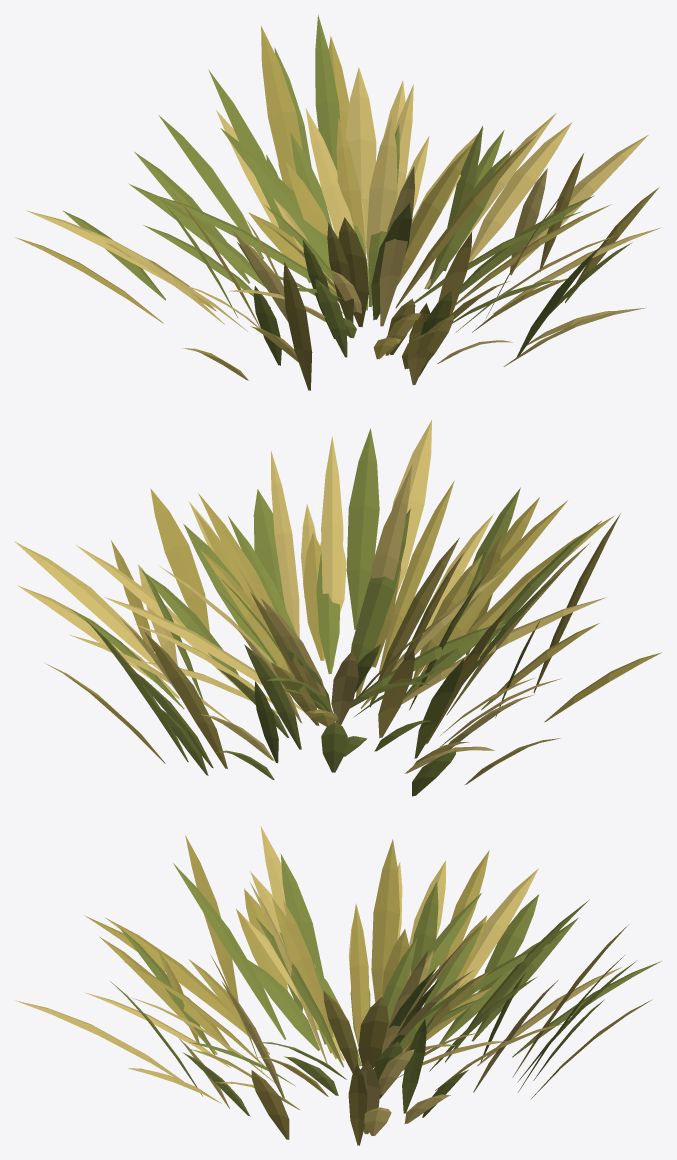
The model's file is grass_short.glb.
3 renders of one model, top to bottom at view 1: azimuth 30°, elevation 25°; view 2: azimuth 150°, elevation 25°; view 3: azimuth 270°, elevation 25°, orthographic. The views are drawn at different scales.
Visible parts, largest first — view 1: grass_short; view 2: grass_short; view 3: grass_short.
Boxes of the visible parts, x1,y1,x2,y2 form: grass_short: [15, 14, 660, 390]; grass_short: [14, 420, 661, 796]; grass_short: [15, 826, 661, 1145].
Bounding box in the file's own units: 0.9543 × 0.3068 × 0.9949.
